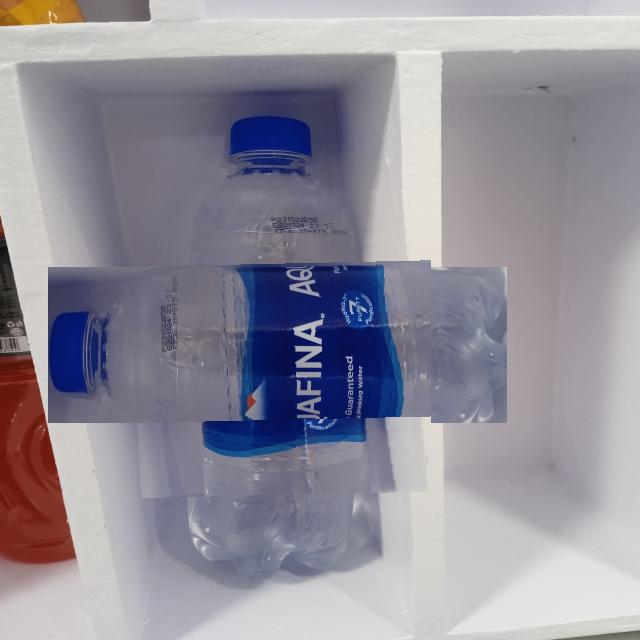Plastic: (124, 191, 432, 498)
